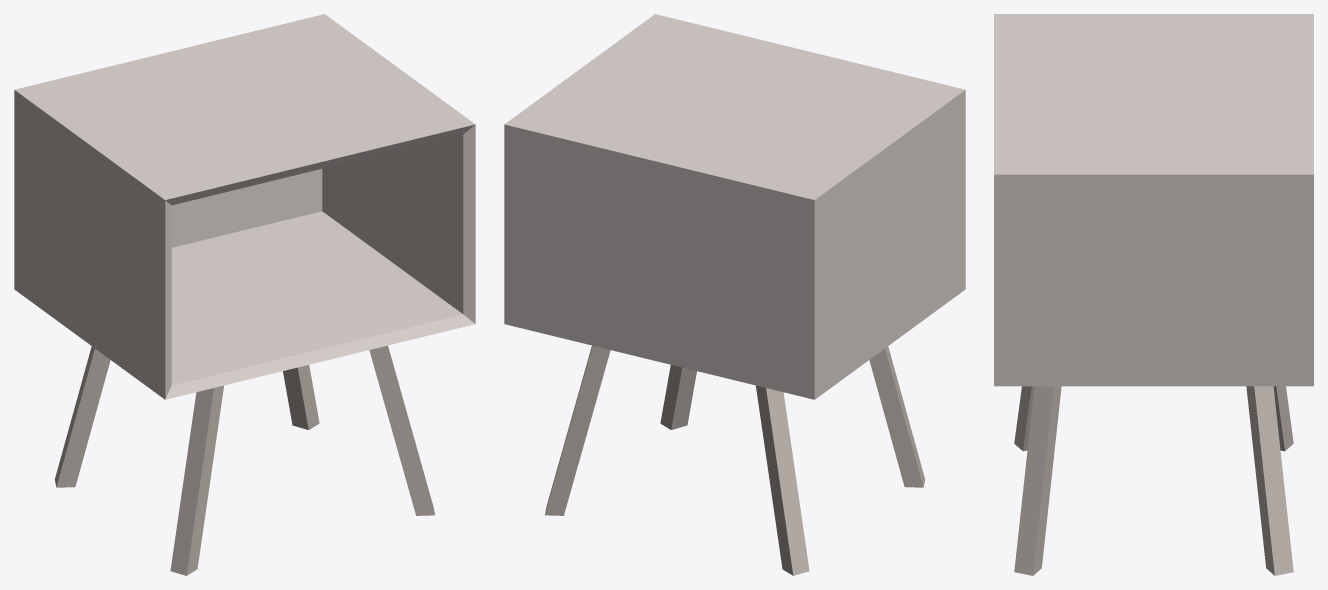
File: Cupboard_19_01.fbx
3 views of the same model, side by side, from view 1: azimuth 30°, elevation 25°; view 2: azimuth 150°, elevation 25°; view 3: azimuth 270°, elevation 25° (orthographic). The views are drawn at different scales.
Parts seen in each view (by area): view 1: Cupboard_19_01; view 2: Cupboard_19_01; view 3: Cupboard_19_01.
Part boxes in pixels (x1,y1,x2,y2): Cupboard_19_01: [14, 14, 475, 575]; Cupboard_19_01: [504, 14, 965, 575]; Cupboard_19_01: [994, 14, 1313, 575].
Size of the model in its own units: 50.87 by 61.12 by 42.83.
